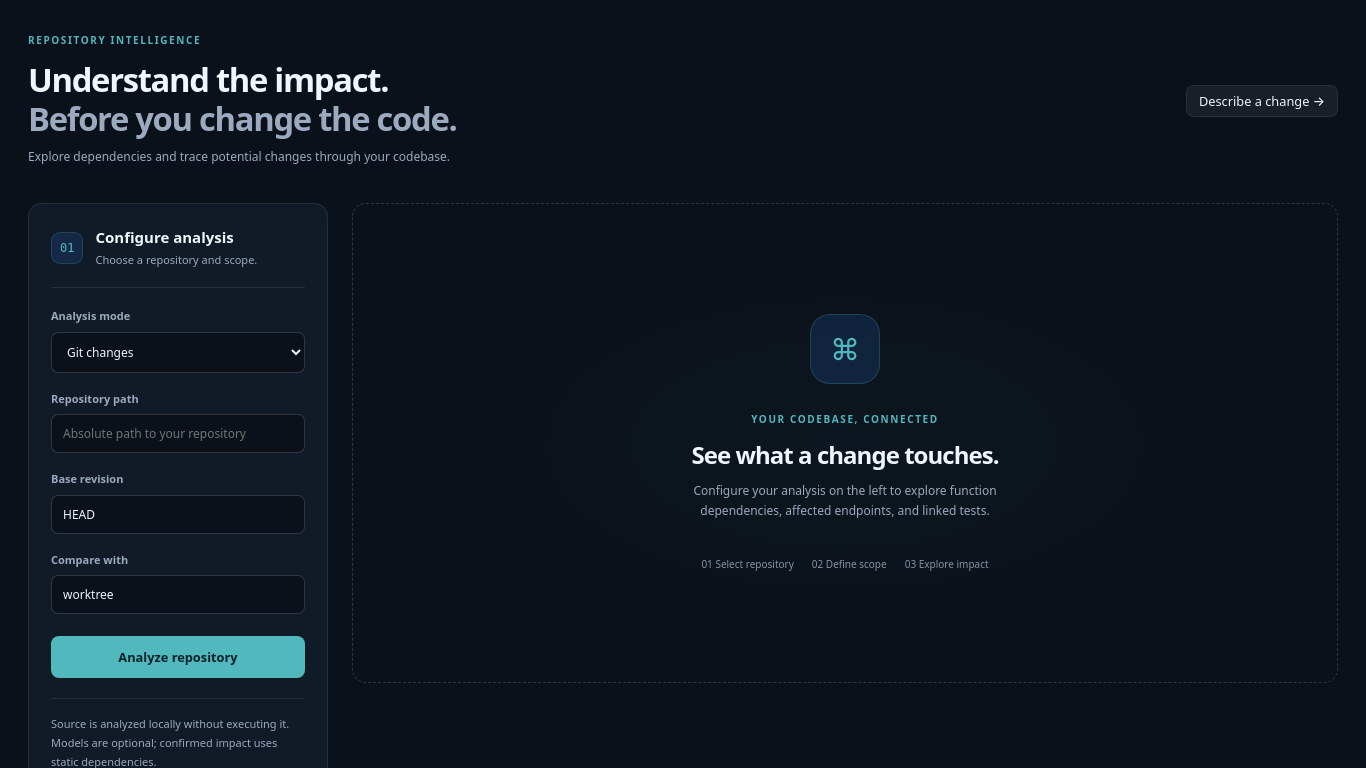
Test case: Repository analysis API integration › shows backend validation errors
The image size is (1366, 768).
In the field labelled "Repository path": coordinates (178, 434) top-left (51, 414), bottom-right (305, 453), type "examples/commerce"
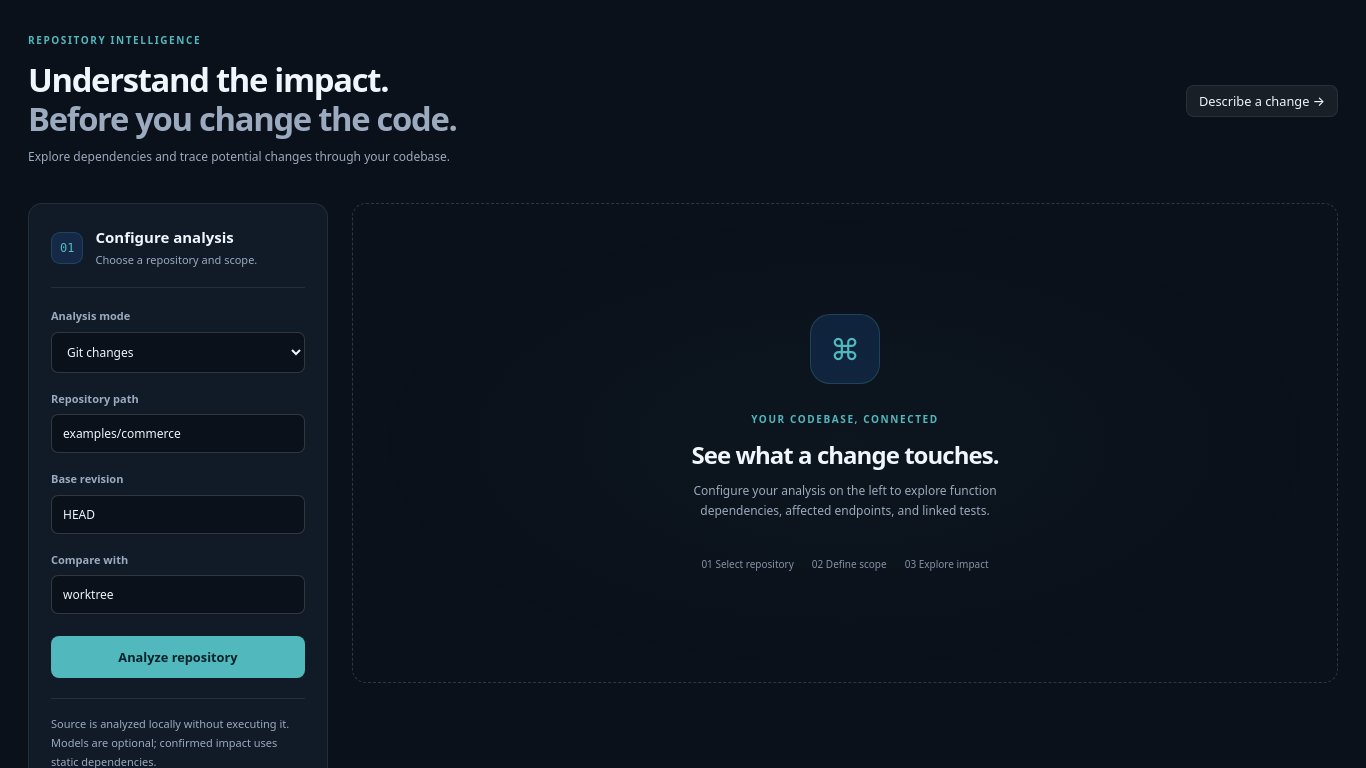
Click the button "Analyze repository": coordinates (178, 657) top-left (51, 636), bottom-right (305, 678)
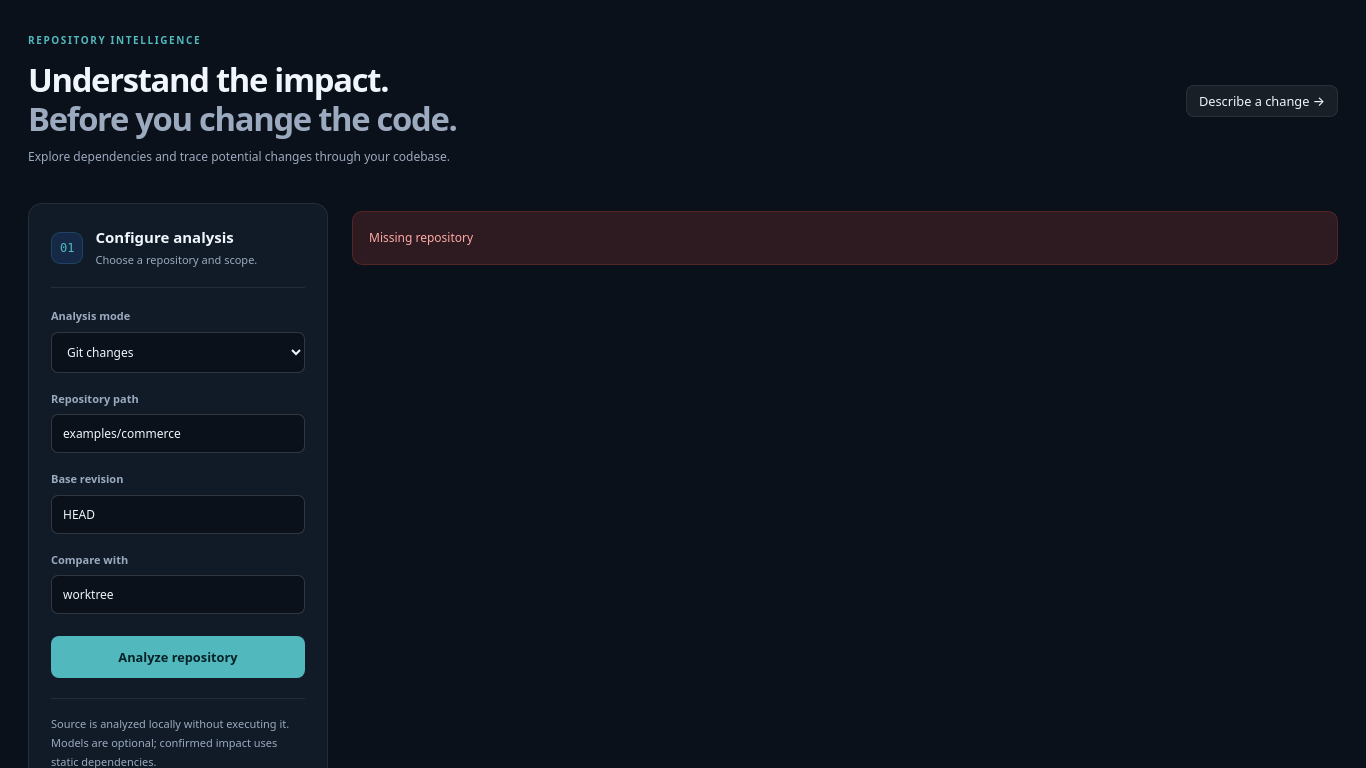
Expected: the message reads "Missing repository", top-left (369, 229), bottom-right (473, 246)
